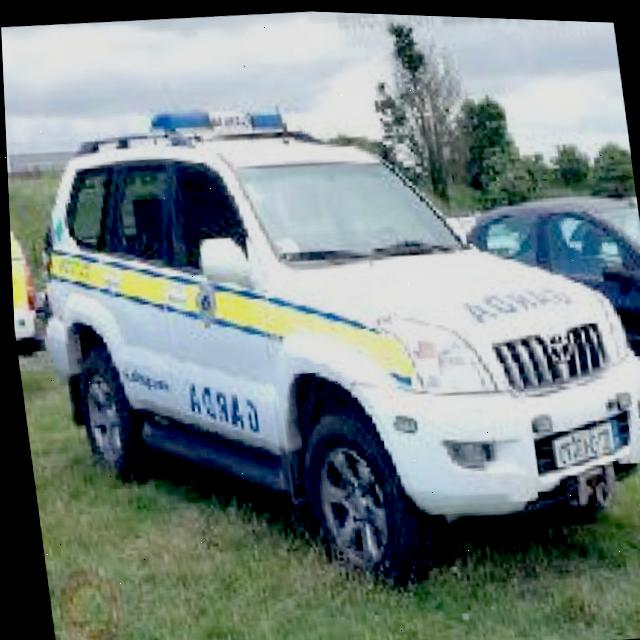emergency: (8, 61, 640, 622)
